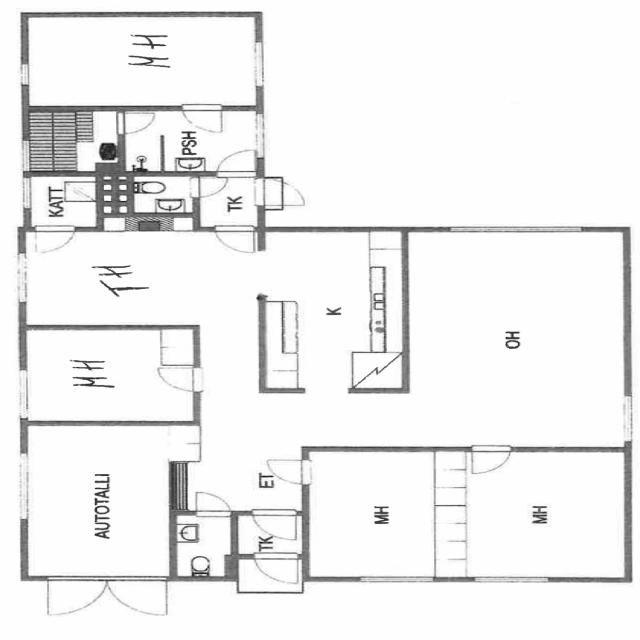door: (48, 576, 107, 617), (108, 576, 166, 617), (256, 554, 297, 585), (253, 510, 294, 541), (257, 180, 304, 205), (263, 460, 309, 484), (36, 227, 74, 255), (183, 106, 220, 134), (215, 227, 252, 255), (472, 446, 509, 474), (156, 368, 200, 391), (217, 150, 253, 177), (196, 490, 228, 516), (117, 113, 158, 133), (192, 178, 230, 196)
